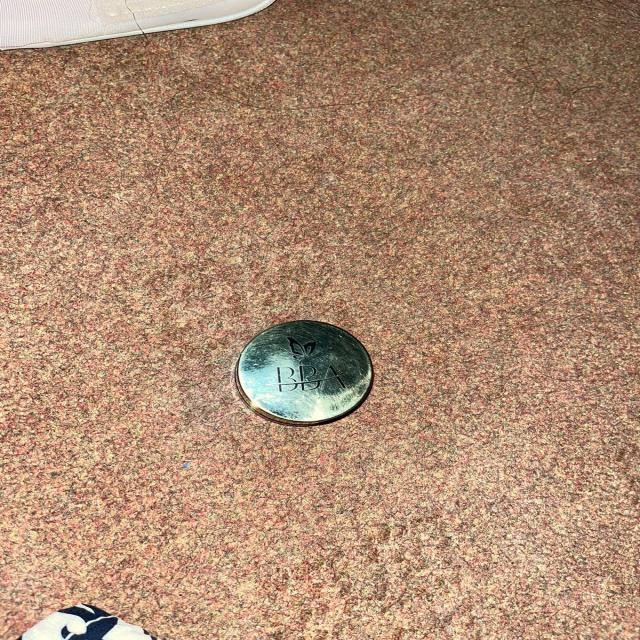eye shade: (196, 314, 406, 442)
